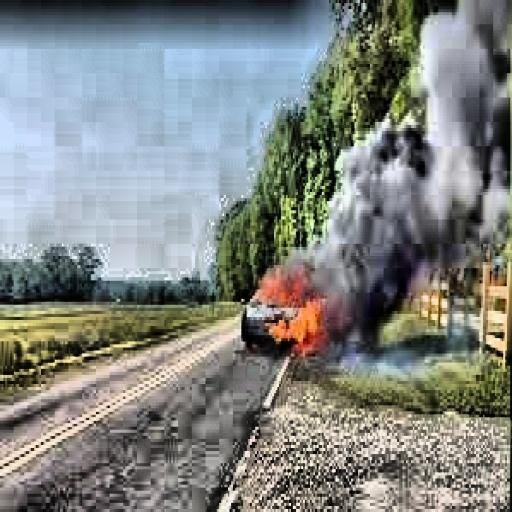fire: (244, 259, 336, 357)
